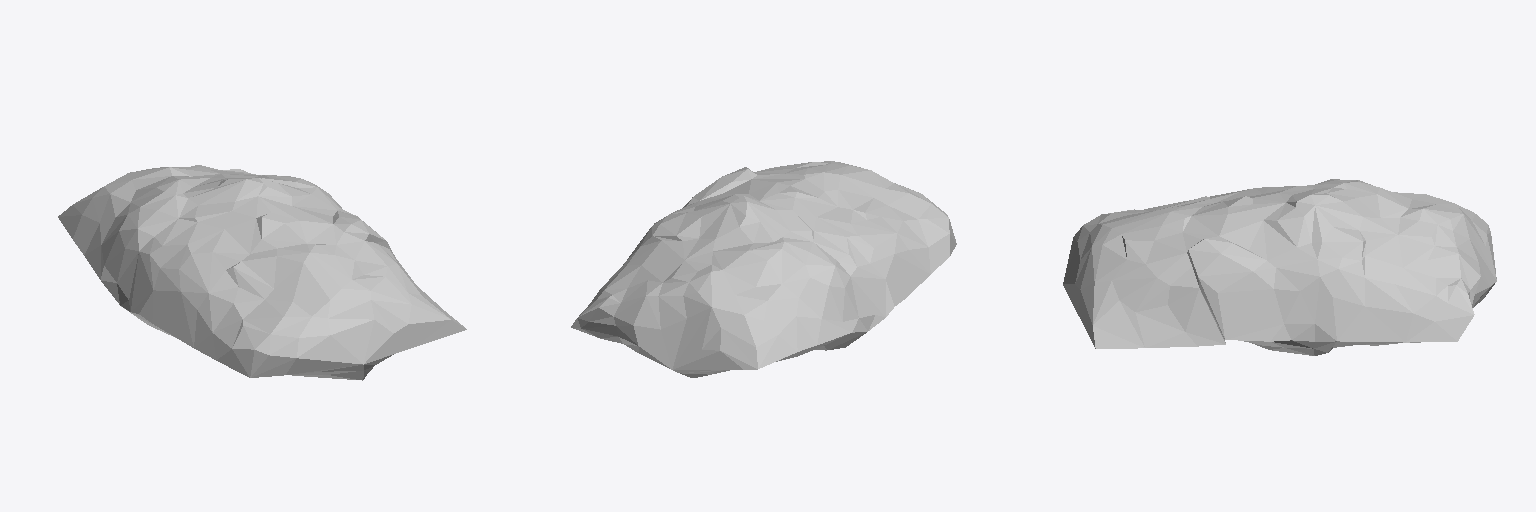
Rendered from arena_low_z_uv.obj.
3 views of the same model, side by side, from view 1: azimuth 30°, elevation 25°; view 2: azimuth 150°, elevation 25°; view 3: azimuth 270°, elevation 25° (orthographic).
Visible parts, largest first — view 1: arena_low_z:Group19820; view 2: arena_low_z:Group19820; view 3: arena_low_z:Group19820.
Boxes of the visible parts, x1=… form: arena_low_z:Group19820: x1=58, y1=165, x2=466, y2=380; arena_low_z:Group19820: x1=571, y1=161, x2=956, y2=377; arena_low_z:Group19820: x1=1063, y1=179, x2=1496, y2=355.
Size of the model in its own units: 27.19 by 13.65 by 41.92.